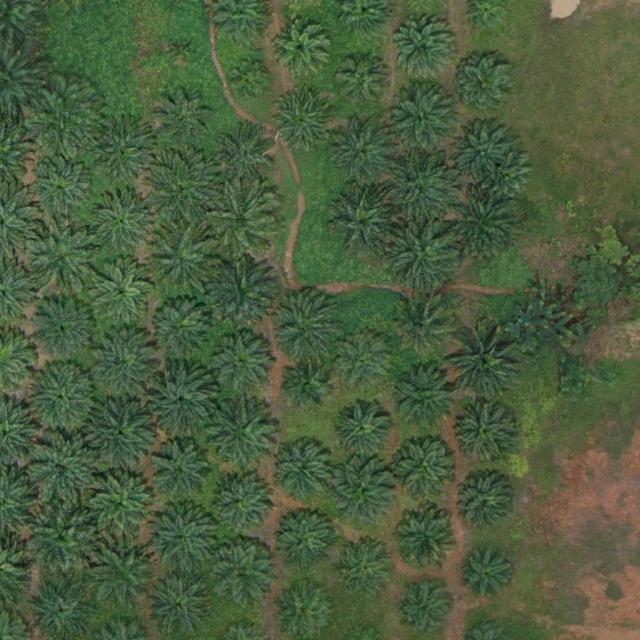Healthy: (29, 83, 100, 154), (26, 155, 97, 226), (91, 327, 162, 398), (86, 396, 157, 467), (385, 156, 456, 227), (326, 456, 397, 527), (149, 505, 220, 576), (451, 329, 521, 400), (29, 222, 99, 293), (86, 113, 156, 184), (88, 185, 158, 256), (147, 155, 217, 226), (146, 223, 216, 294), (146, 360, 216, 431), (205, 185, 275, 256), (208, 256, 278, 327), (206, 328, 276, 399), (207, 401, 277, 472), (270, 294, 340, 365), (389, 221, 459, 292), (392, 365, 462, 436), (390, 432, 460, 503), (449, 195, 520, 265), (87, 472, 158, 542), (89, 541, 159, 612), (390, 87, 460, 157), (149, 85, 219, 155), (27, 294, 97, 364), (26, 365, 96, 435), (27, 435, 97, 505), (329, 188, 399, 258), (28, 504, 98, 574), (394, 15, 457, 78), (332, 124, 395, 187), (90, 259, 153, 322), (212, 126, 275, 189), (210, 471, 273, 534), (395, 297, 457, 360), (270, 16, 332, 79), (271, 89, 333, 152), (150, 295, 213, 357), (150, 441, 212, 504), (269, 440, 331, 503), (332, 330, 395, 392), (330, 400, 393, 462), (454, 401, 516, 464), (393, 509, 455, 572), (337, 538, 399, 601), (273, 506, 335, 569), (211, 541, 273, 604), (149, 572, 211, 635), (455, 472, 517, 534), (459, 59, 514, 114), (335, 55, 390, 110), (458, 549, 513, 604), (455, 126, 509, 181), (477, 151, 531, 206), (397, 582, 451, 637), (283, 358, 330, 406)
Small: (230, 60, 269, 100), (169, 39, 192, 63)
